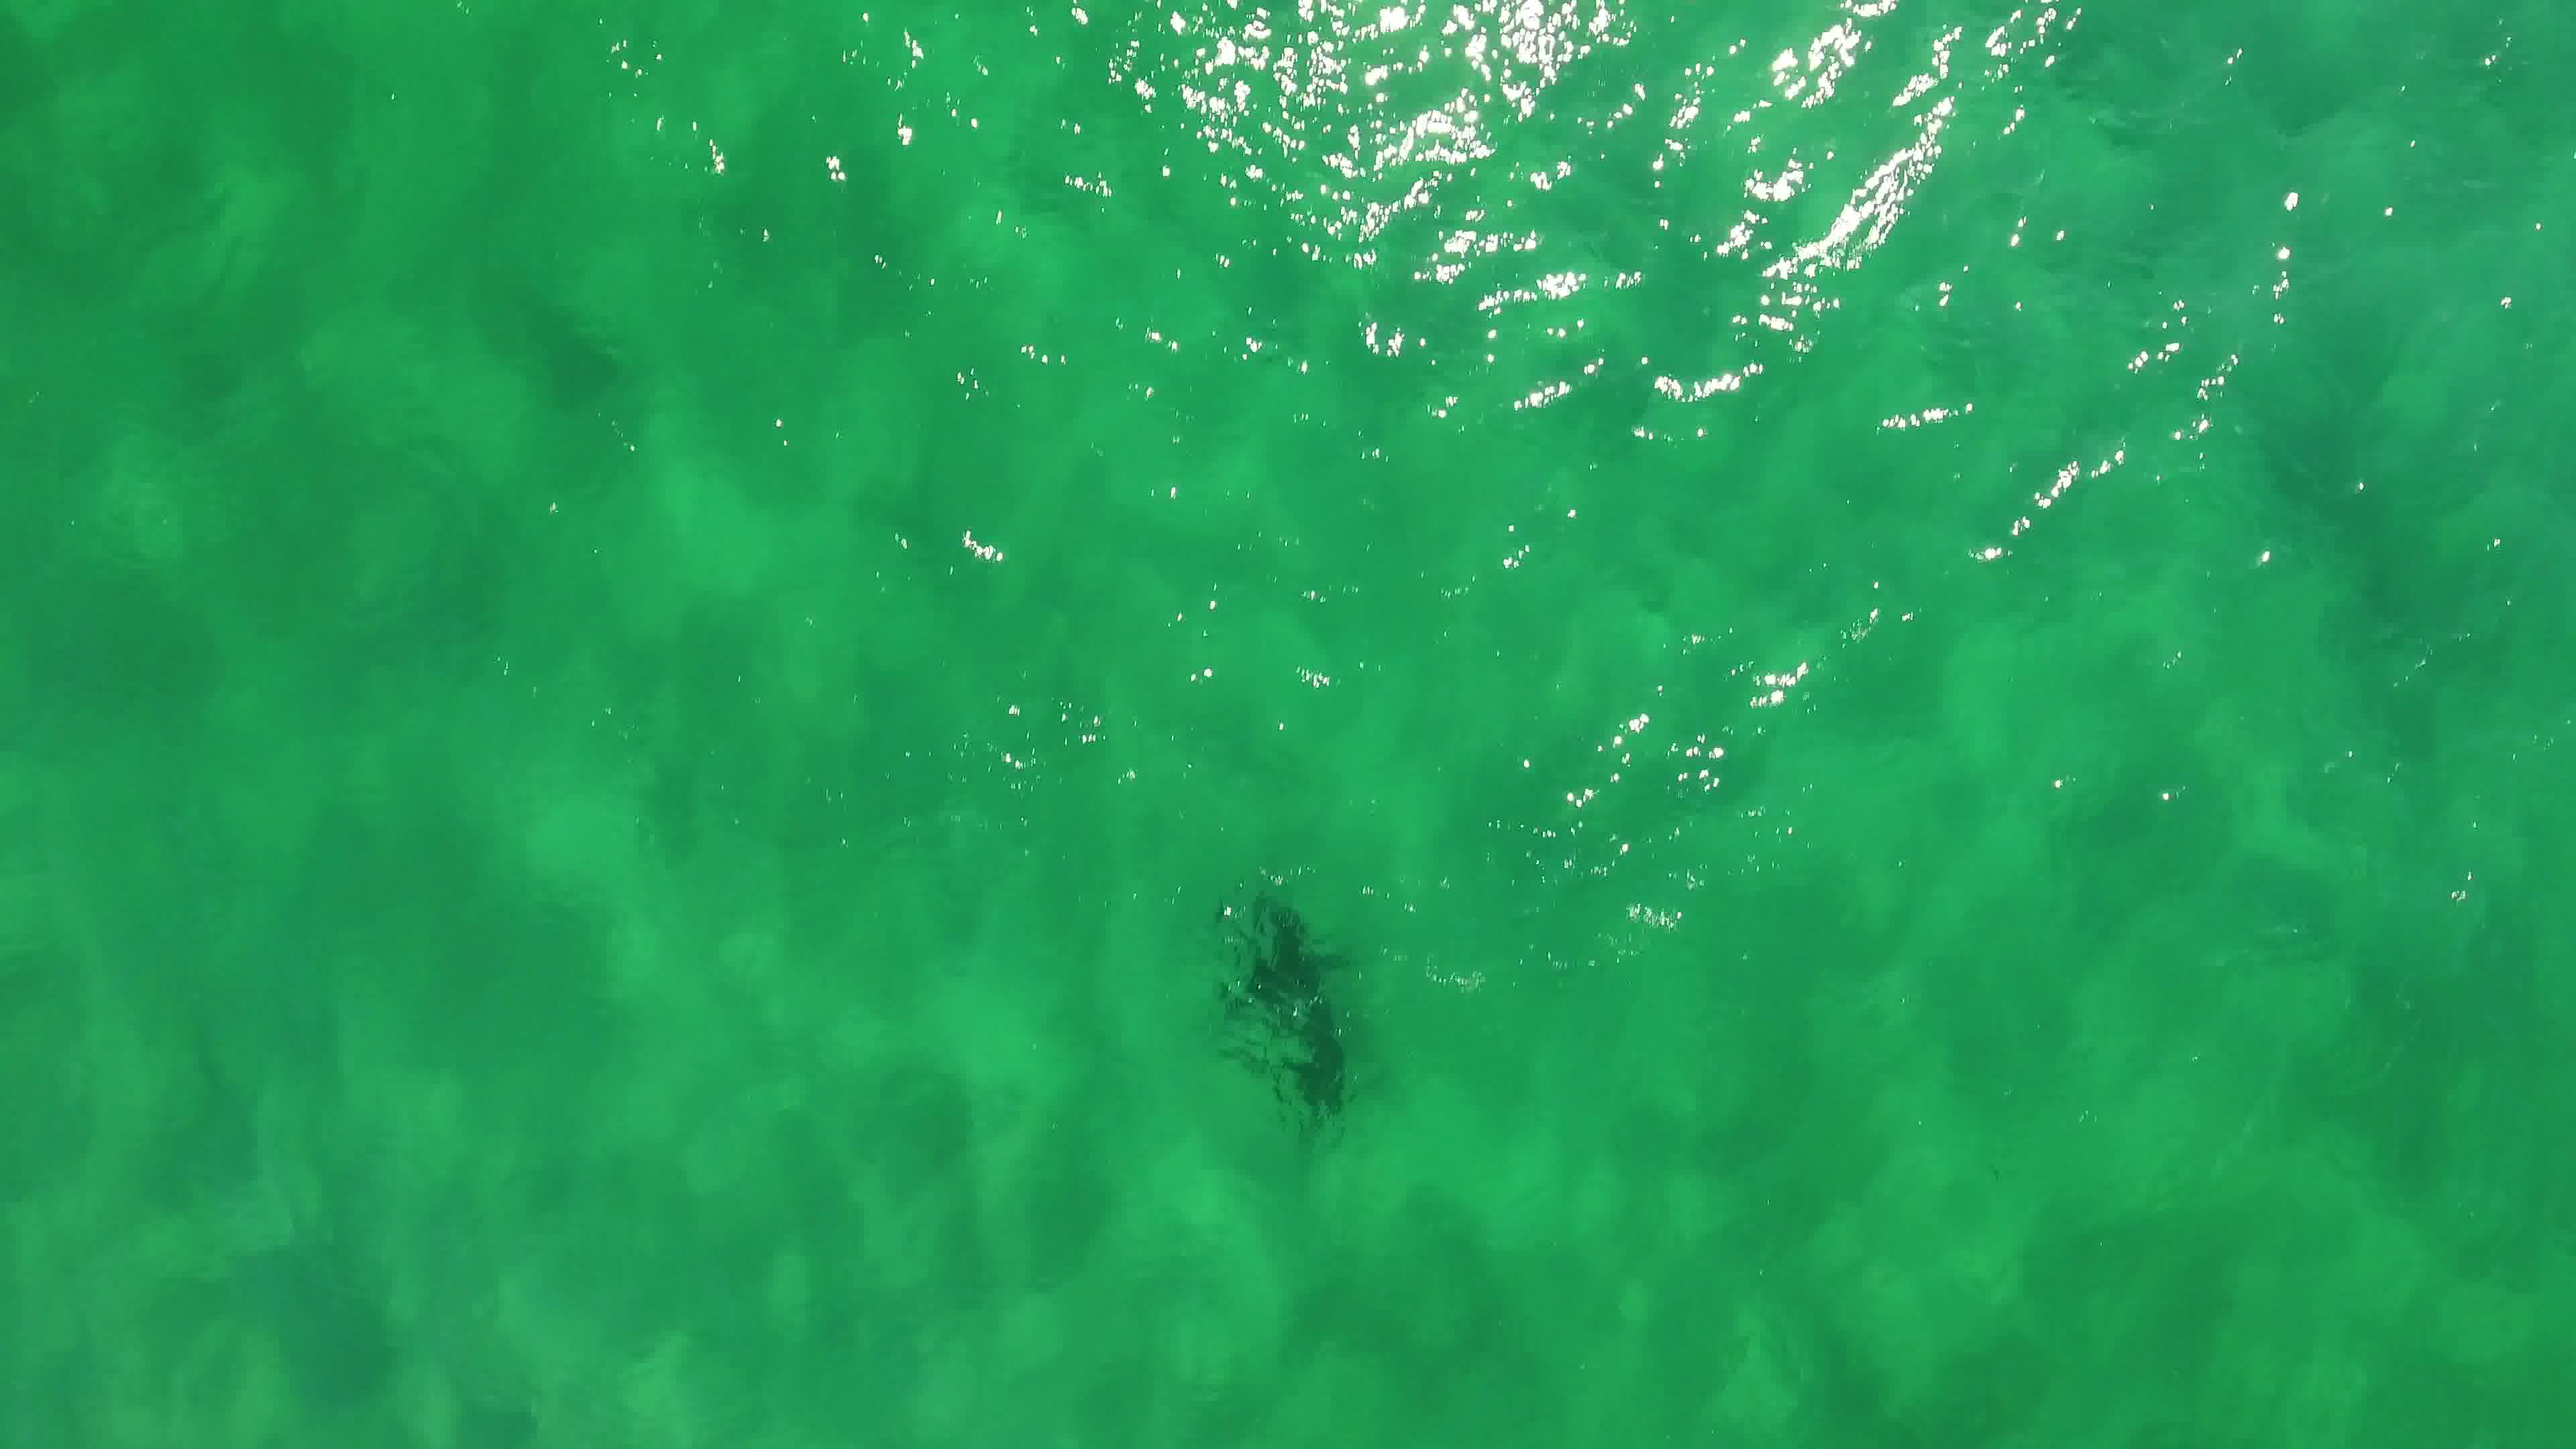shark: (1196, 885, 1357, 1125)
